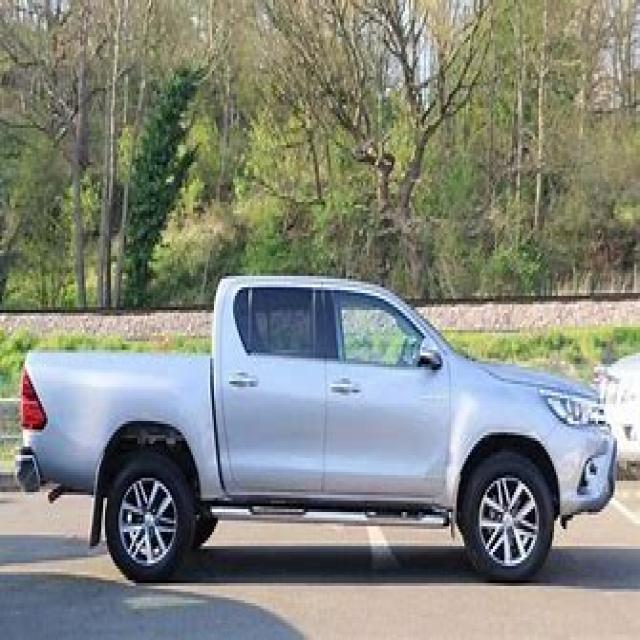light_vehicle: (16, 265, 634, 600)
